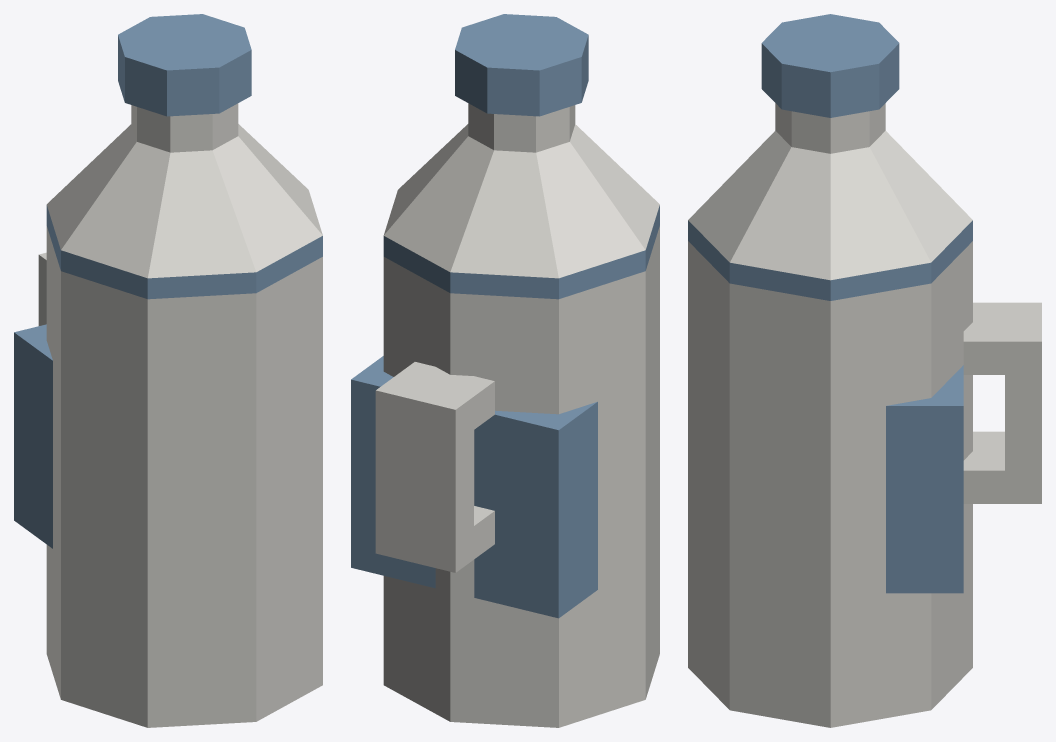
File: gallon.glb
3 views of the same model, side by side, from view 1: azimuth 30°, elevation 25°; view 2: azimuth 150°, elevation 25°; view 3: azimuth 270°, elevation 25° (orthographic).
Visible parts, largest first — view 1: NC_gallon; view 2: NC_gallon; view 3: NC_gallon.
Boxes of the visible parts, box(x1,y1,x2,y2) form: NC_gallon: box(14, 14, 322, 727); NC_gallon: box(351, 14, 659, 727); NC_gallon: box(688, 14, 1041, 727).
Bounding box in the file's own units: 0.124 × 0.3 × 0.154.
